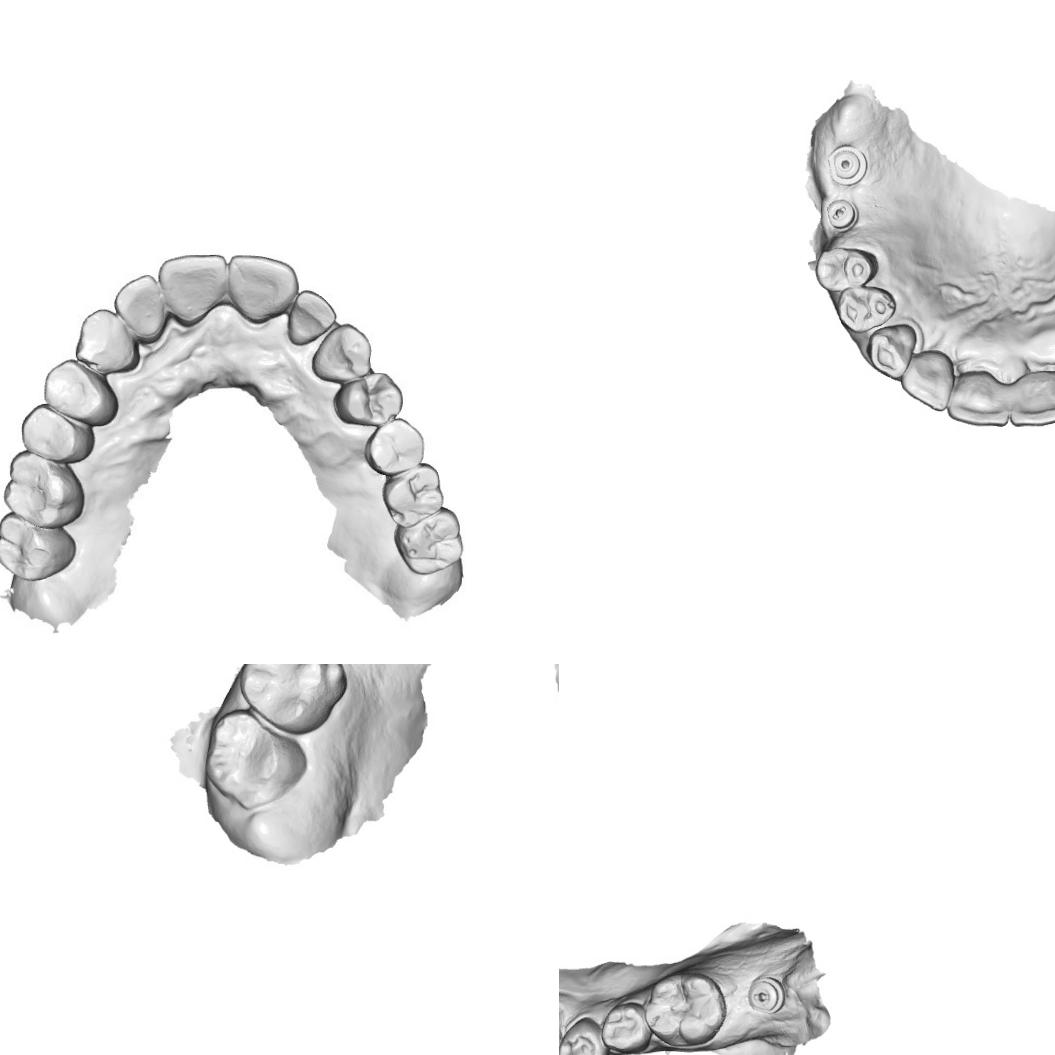canine: (309, 322, 376, 384), (76, 307, 133, 371), (866, 322, 919, 382)
implant: (826, 144, 868, 186)
implant_minus: (746, 974, 788, 1015), (824, 197, 859, 232)
incisor: (154, 252, 232, 324), (232, 250, 296, 321), (944, 370, 1012, 430), (112, 270, 165, 342), (899, 348, 956, 414), (286, 286, 339, 342), (1007, 368, 1055, 428)
molar: (200, 708, 310, 813), (234, 664, 347, 739), (642, 972, 728, 1048), (1, 452, 82, 523), (389, 506, 466, 580), (0, 512, 79, 584), (384, 467, 444, 528)
premolar: (42, 362, 118, 424), (22, 404, 85, 462), (368, 418, 429, 476), (336, 374, 402, 426), (834, 284, 898, 336), (814, 245, 878, 295), (599, 1000, 654, 1054), (559, 1016, 609, 1055)
